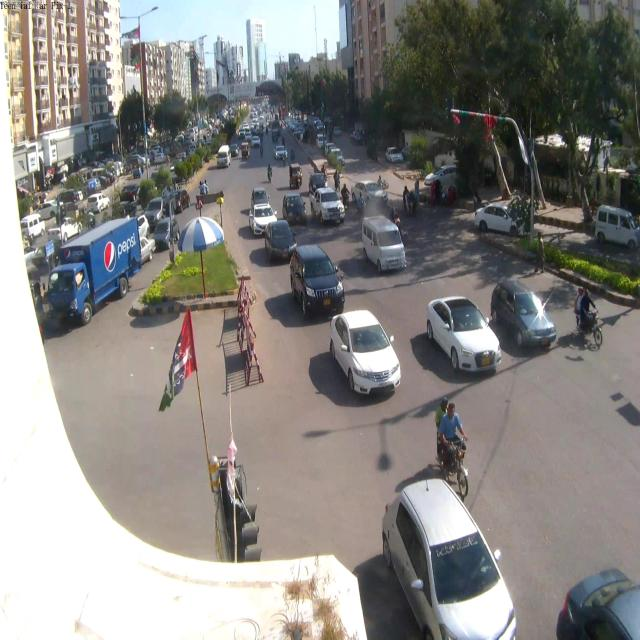car: (377, 476, 523, 640), (324, 310, 402, 408), (421, 283, 504, 375), (494, 272, 558, 355), (286, 238, 347, 324), (307, 178, 342, 230), (474, 200, 521, 237), (265, 215, 295, 272), (157, 212, 183, 256)
motorbike: (436, 398, 470, 494), (571, 287, 606, 346)
truck: (45, 225, 147, 324)
